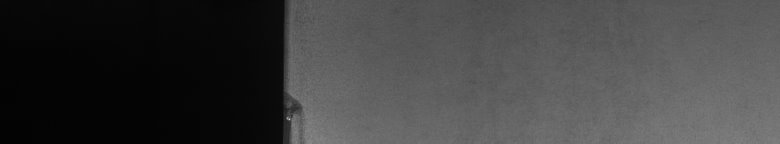hb: (292, 92, 311, 136)
